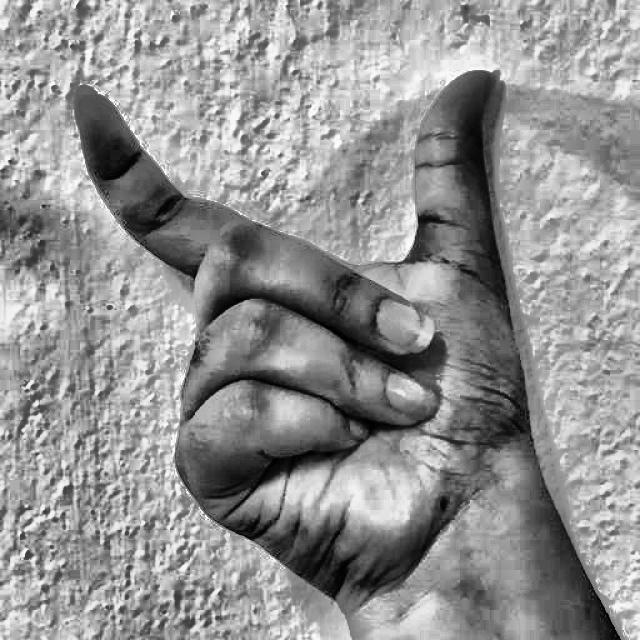ChandraBindu: (53, 32, 576, 610)
